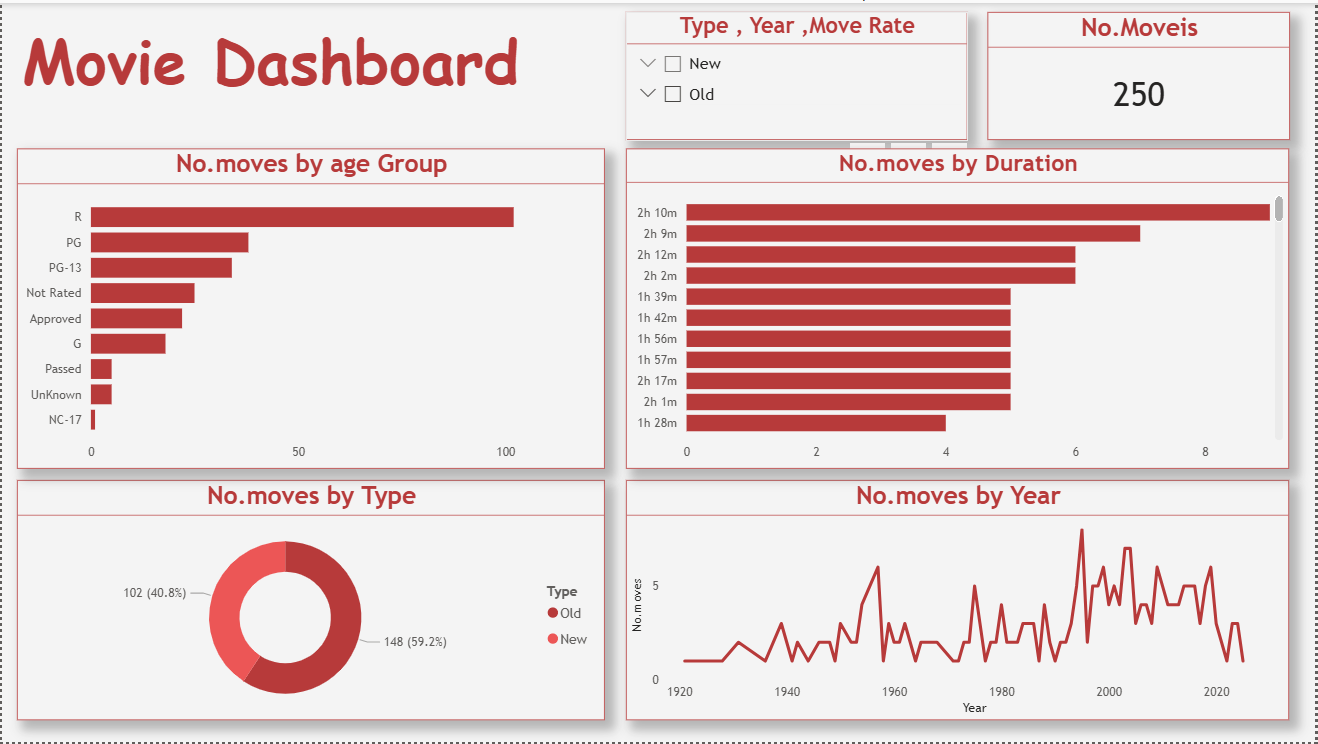

Layout of this report page (visuals, bound fields, positions):
{"tool":"powerbi","page":{"name":"Page 2","canvas":[1280,720],"ordinal":0},"visuals":[{"type":"card","title":"No.Movies","fields":{"Values":["Table 1.No.moves"]},"box":[960,9.4,294.8,124.7],"z":0},{"type":"textbox","box":[15.1,9.4,572.6,100.2],"z":1000},{"type":"slicer","title":"Type , Year ,Move Rate","fields":{"Values":["Table 1.Type","Table 1.Year","Table 1.Move Rate"]},"box":[608.5,9.4,332.6,124.7],"z":2000},{"type":"lineChart","fields":{"Y":["Table 1.No.moves","Avg(Table 1.Move Rate)"],"Category":["Table 1.Year"]},"box":[608.5,464.9,646.3,234.3],"z":3000},{"type":"donutChart","fields":{"Category":["Table 1.Type"],"Y":["Avg(Table 1.Move Rate)"]},"box":[15.1,464.9,572.6,234.3],"z":4000},{"type":"clusteredBarChart","fields":{"Category":["Table 1.age Group"],"Y":["Table 1.No.moves","Avg(Table 1.Move Rate)"]},"box":[15.1,141.7,572.6,311.8],"z":5000},{"type":"clusteredBarChart","fields":{"Y":["Avg(Table 1.Move Rate)"],"Category":["Table 1.Duration"]},"box":[608.5,141.7,646.3,311.8],"z":6000}]}

Visuals, with their boxes in screenshot pixels (x1, y1, x2, y2), scaled from the page's 1280x720 canvas onto the 1318x744 screenshot:
"No.Movies" card: box(989, 10, 1292, 139)
textbox: box(16, 10, 605, 113)
"Type , Year ,Move Rate" slicer: box(627, 10, 969, 139)
lineChart - Table 1.No.moves x Avg(Table 1.Move Rate): box(627, 480, 1292, 723)
donutChart - Table 1.Type x Avg(Table 1.Move Rate): box(16, 480, 605, 723)
clusteredBarChart - Table 1.age Group x Table 1.No.moves: box(16, 146, 605, 469)
clusteredBarChart - Avg(Table 1.Move Rate) x Table 1.Duration: box(627, 146, 1292, 469)
